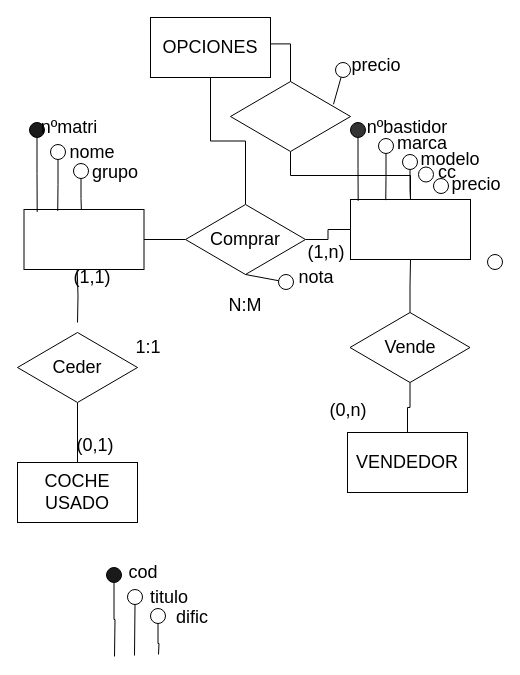
This 520x675 diagram has some shape labels left out. Each missing label, with the centre of its shape:
"CLIENTE" goes at pixel 83 239.
"Tiene" goes at pixel 290 116.
"VEHÍCULO" goes at pixel 410 229.
